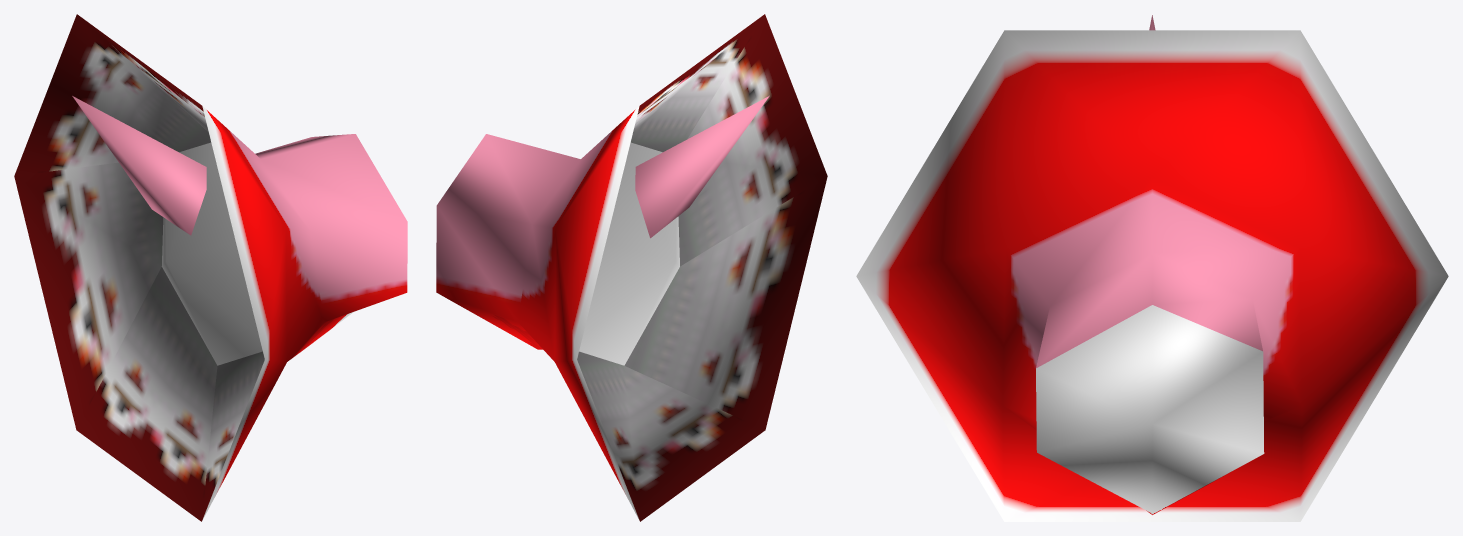
The model's file is Body.obj.
The picture shows the model from 3 angles, left to right: view 1: azimuth 30°, elevation 25°; view 2: azimuth 150°, elevation 25°; view 3: azimuth 270°, elevation 25°; orthographic projection. The views are drawn at different scales.
Bounding box in the file's own units: 3.97 × 4.88 × 5.33.
Materials: 2 (2 with a texture image).
